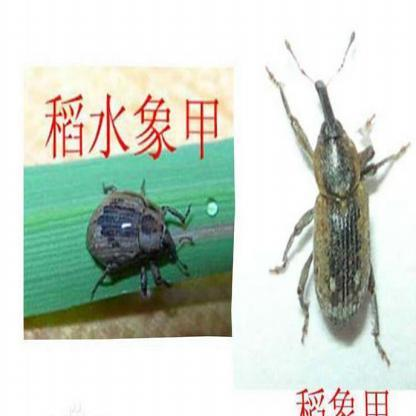rice-bug: (274, 32, 402, 360), (90, 174, 188, 296)
